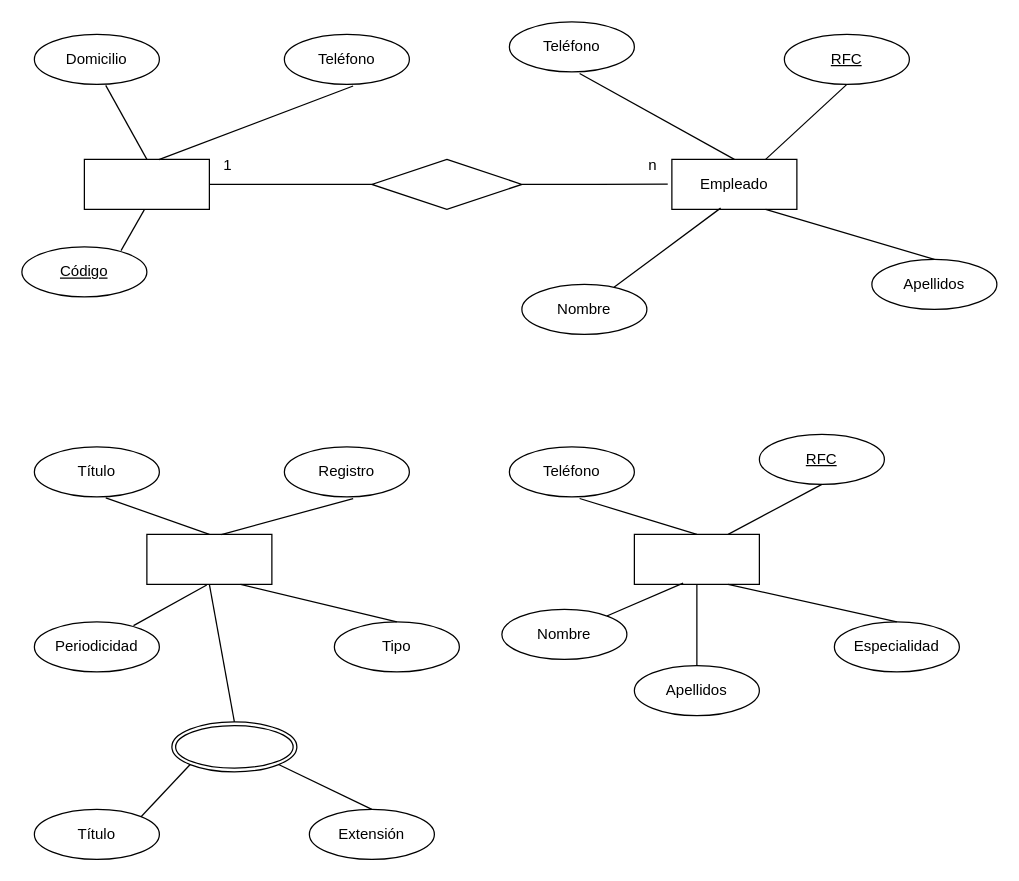
Some shapes in this 1019 by 881 pixel diagram are drawn without their labels. The box of each missing label's shape, as (x1, y1, x2, y2) in pixels:
Periodista: (633, 533, 759, 584)
Revista: (146, 533, 272, 584)
Sección: (171, 721, 297, 772)
Sucursal: (83, 158, 209, 209)
tiene: (371, 158, 522, 209)
